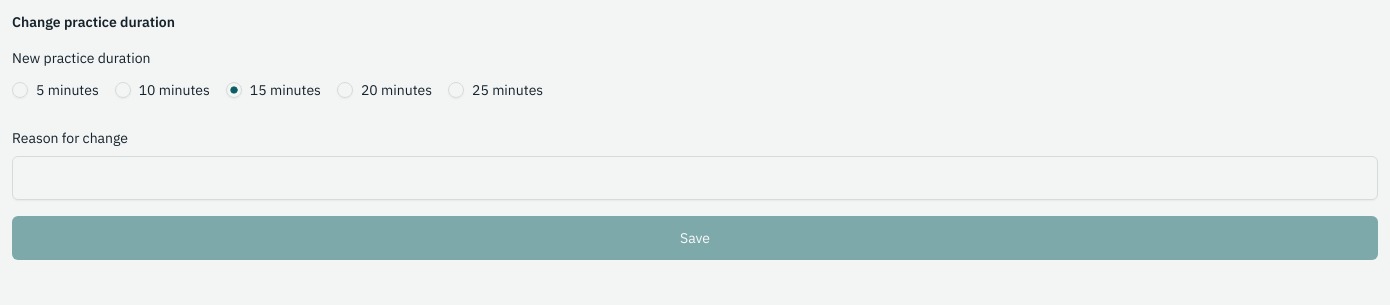
Test: ChangePracticeDuration › server 400 fieldErrors.reason renders inline and keeps the typed values
Expected: the radio button named "15 minutes" next to "15" is shown, [226,82,242,98]
Click the radio button named "20 minutes" next to "20" at (345, 90), box [337,82,353,98]
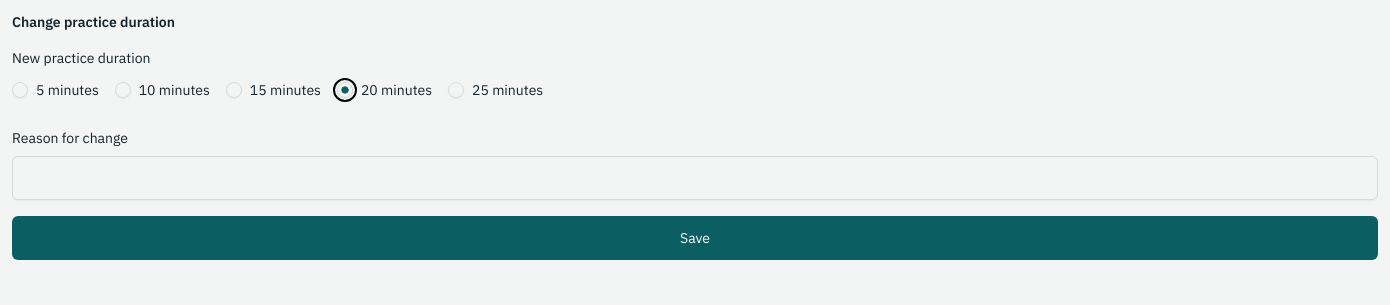
Type "a typed reason" into the field labelled "Reason for change" at (695, 178), box [12,156,1378,200]
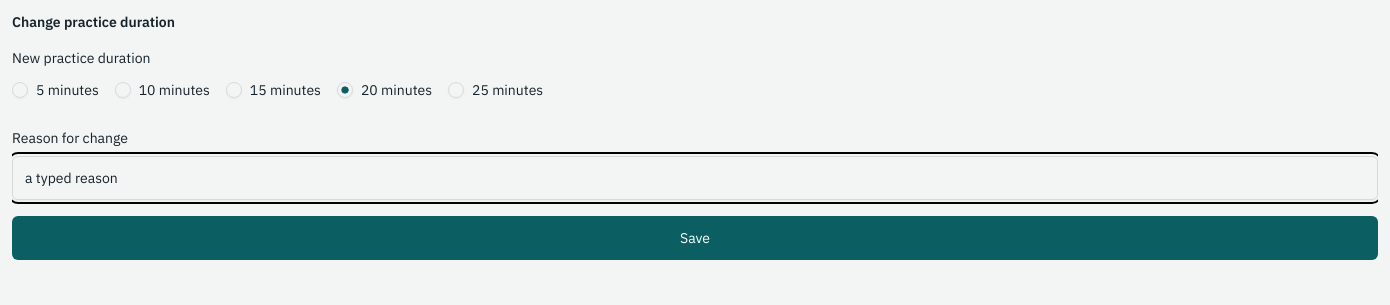
Click the button "Save" at (695, 238), box [12,216,1378,260]
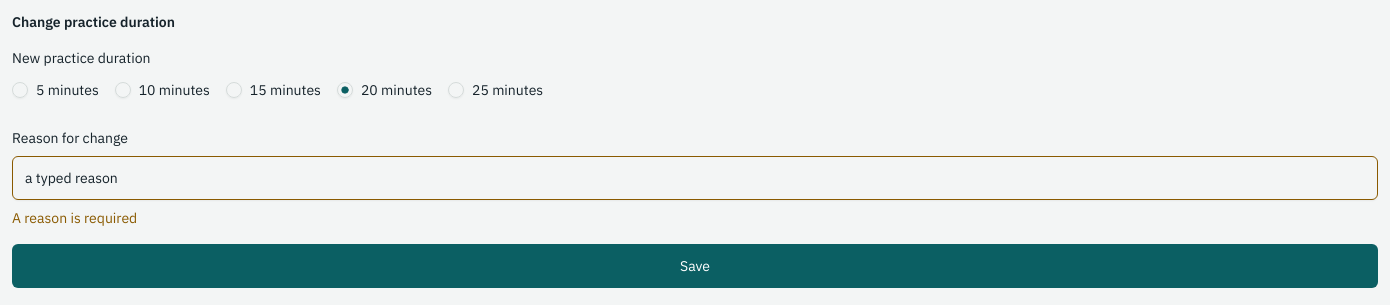
Result: the radio button named "20 minutes" next to "20" is checked at [337,82,353,98]
Result: the text "A reason is required" is shown at [12,209,137,227]
